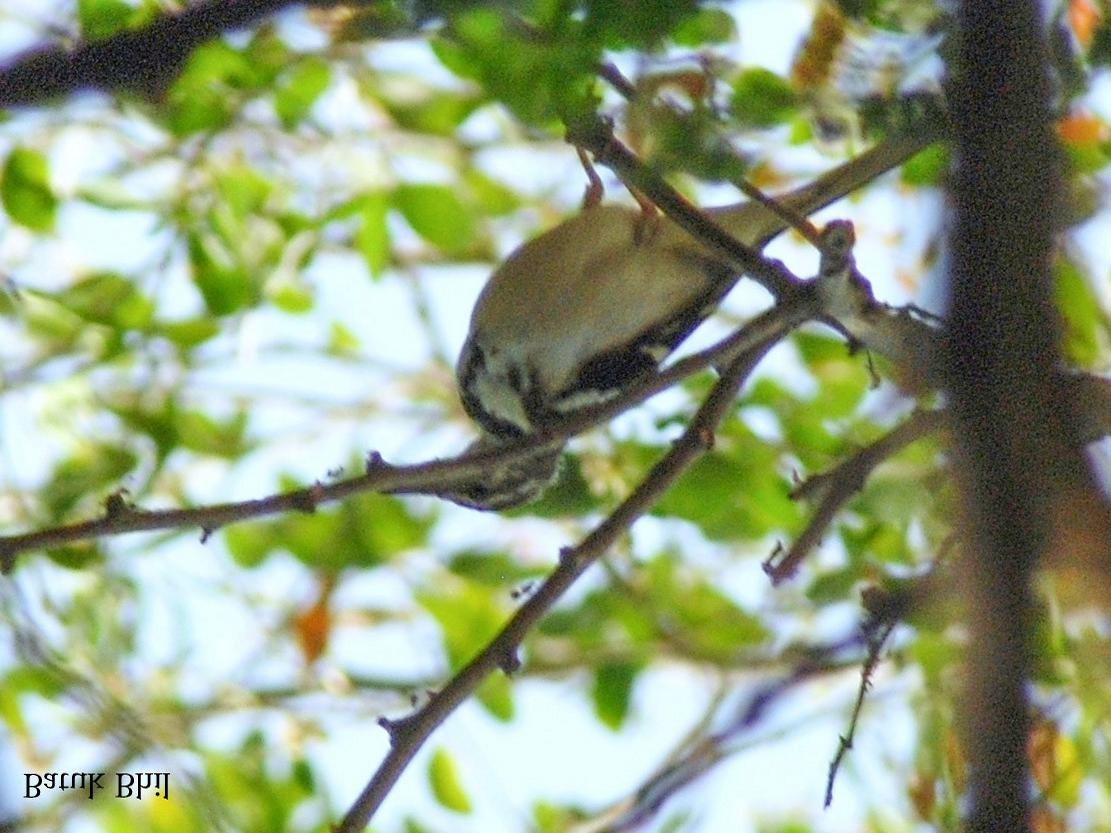wagtail: (358, 111, 891, 569)
